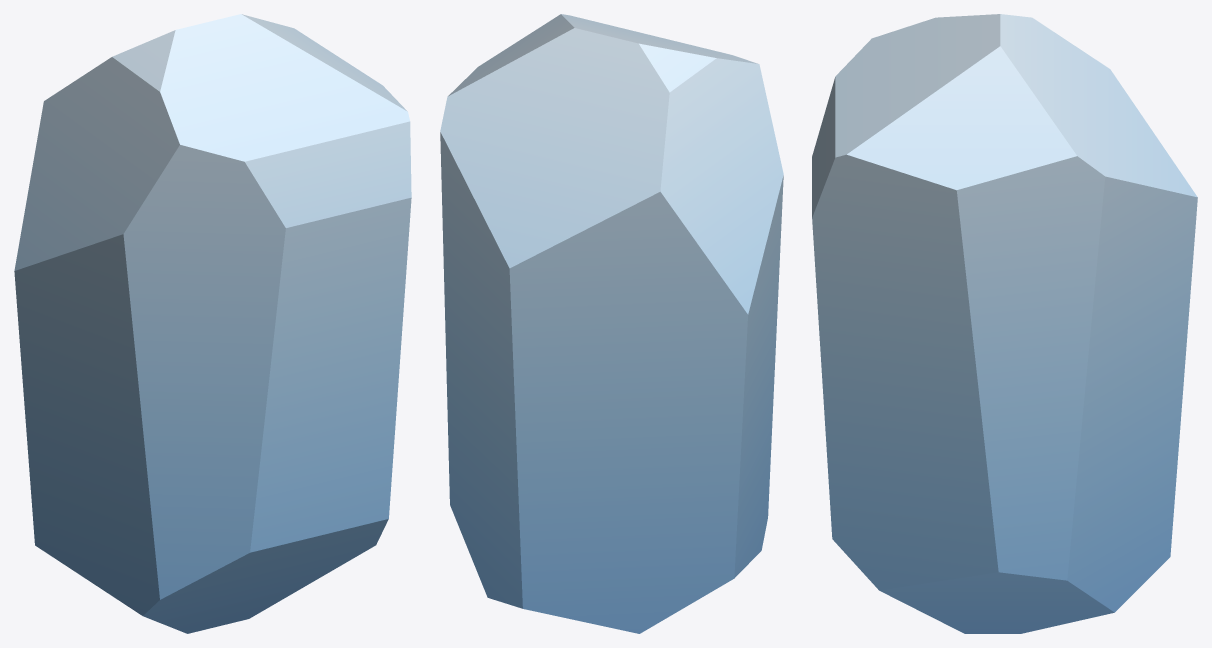
Rendered from Crystal_09.fbx.
The picture shows the model from 3 angles, left to right: view 1: azimuth 30°, elevation 25°; view 2: azimuth 150°, elevation 25°; view 3: azimuth 270°, elevation 25°; orthographic projection. The views are drawn at different scales.
Parts seen in each view (by area): view 1: Crystal_09; view 2: Crystal_09; view 3: Crystal_09.
Part boxes in pixels (left/top/right/bottom): Crystal_09: left=14, top=14, right=411, bottom=633; Crystal_09: left=440, top=14, right=783, bottom=633; Crystal_09: left=812, top=14, right=1197, bottom=633.
Size of the model in its own units: 0.7325 by 1.28 by 0.7561.
